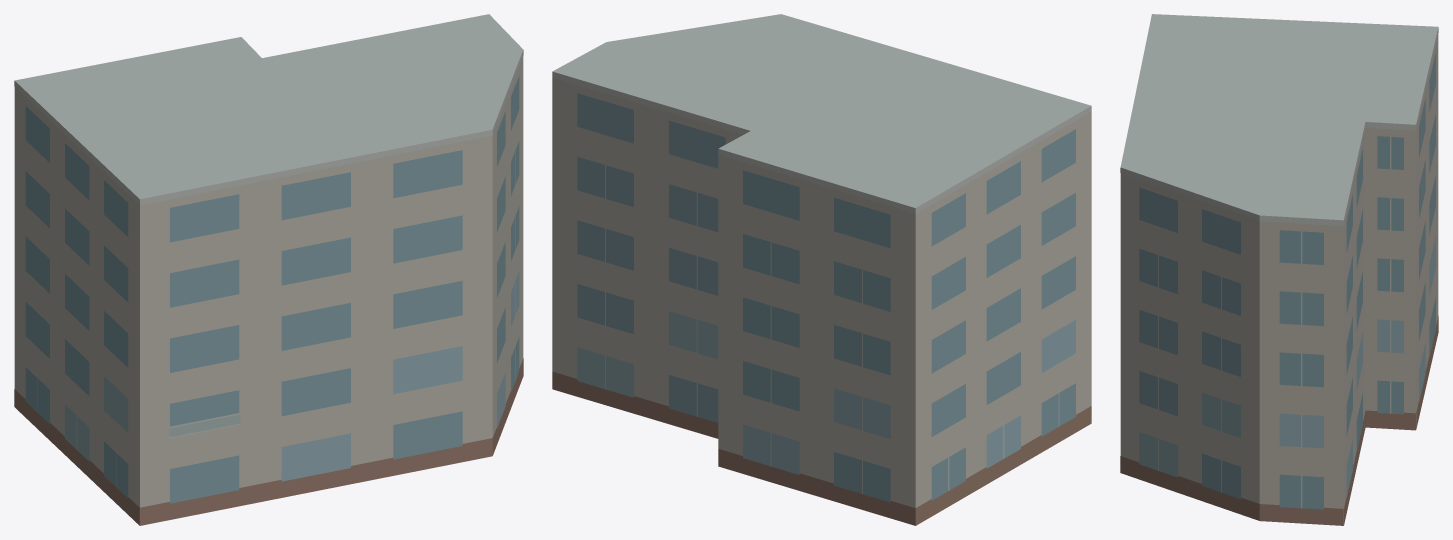
The model's file is survey-upis-32960667.glb.
3 views of the same model, side by side, from view 1: azimuth 30°, elevation 25°; view 2: azimuth 150°, elevation 25°; view 3: azimuth 270°, elevation 25° (orthographic). The views are drawn at different scales.
Visible parts, largest first — view 1: survey-upis-32960667.tmp; view 2: survey-upis-32960667.tmp; view 3: survey-upis-32960667.tmp.
Part boxes in pixels (bbox=[...]): survey-upis-32960667.tmp: bbox=[14, 14, 523, 525]; survey-upis-32960667.tmp: bbox=[552, 14, 1091, 525]; survey-upis-32960667.tmp: bbox=[1120, 14, 1438, 525].
Size of the model in its own units: 19.12 by 13.2 by 12.46.
